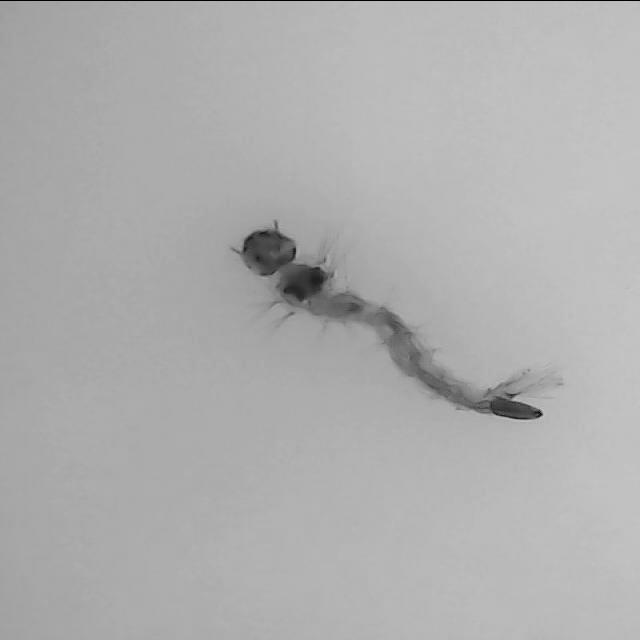larvas: (242, 227, 545, 423)
